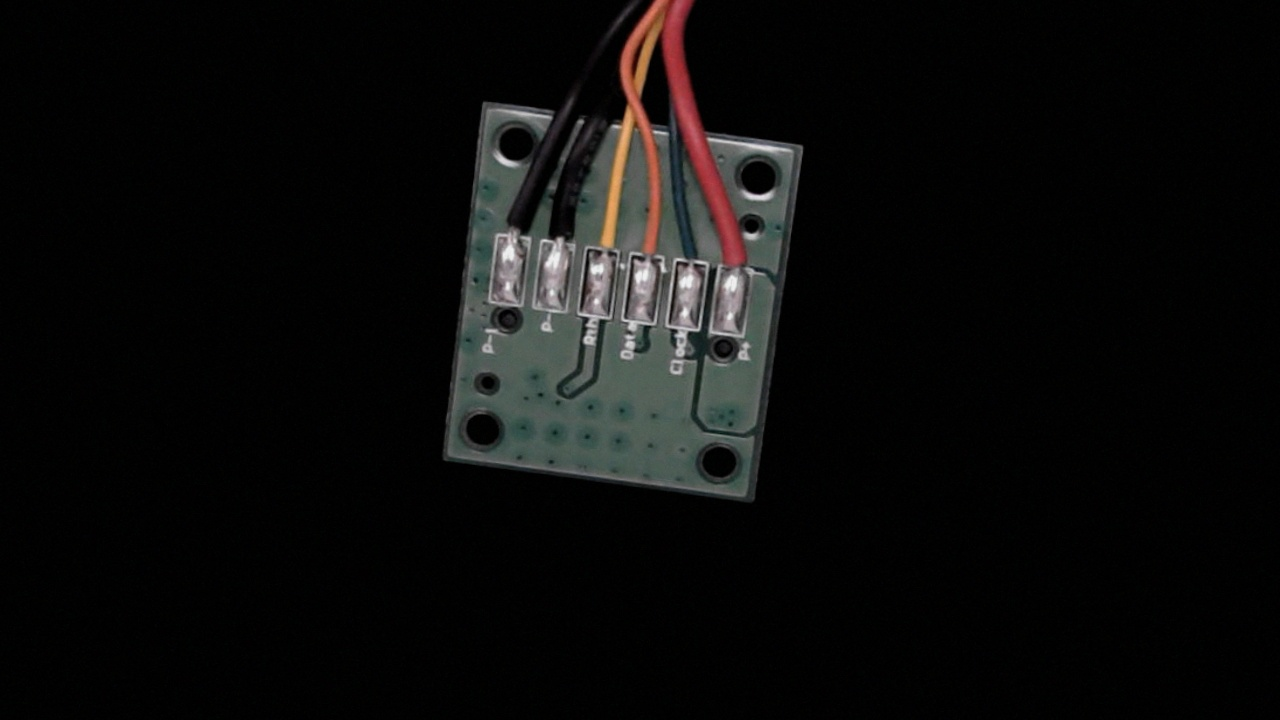Black: (537, 181, 589, 268)
Black1: (487, 180, 537, 260)
Green: (669, 220, 719, 281)
Orange: (628, 192, 678, 277)
Red: (714, 210, 765, 294)
Yellow: (583, 184, 635, 272)
